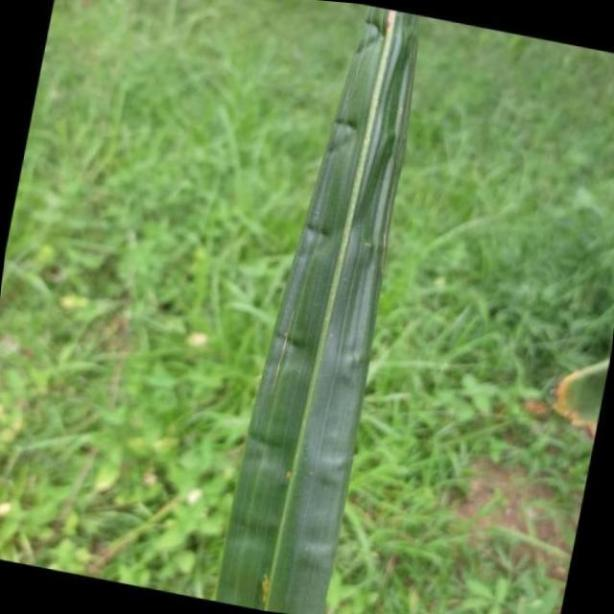Boron: (209, 0, 419, 614)
